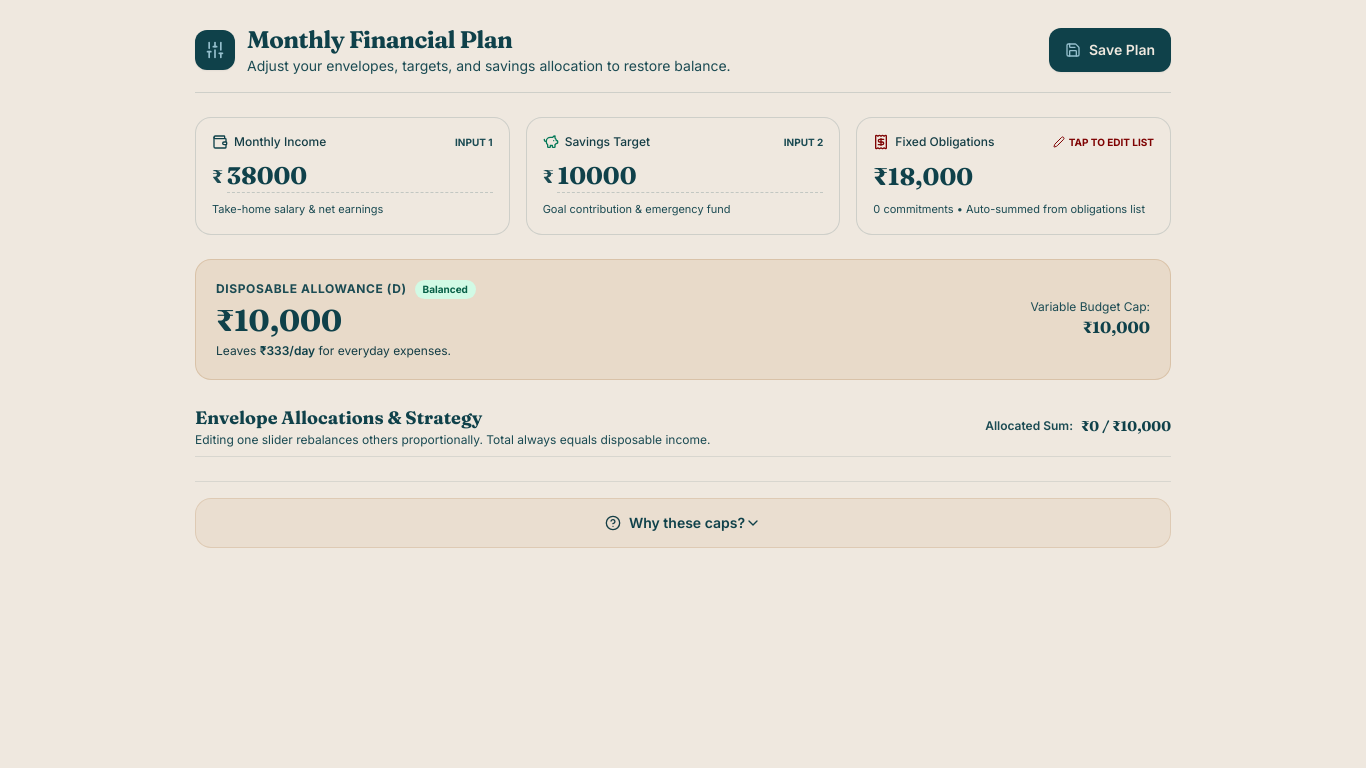
Test: PLAN SCREEN ACCEPTANCE TEST SUITE ("Earn 50k, save 20k") › obligations manager displays obligations with remaining tenure and payoff date for EMIs
Click the button with test id "fixed-obligations-card": (945, 142) top-left (856, 117), bottom-right (1171, 234)
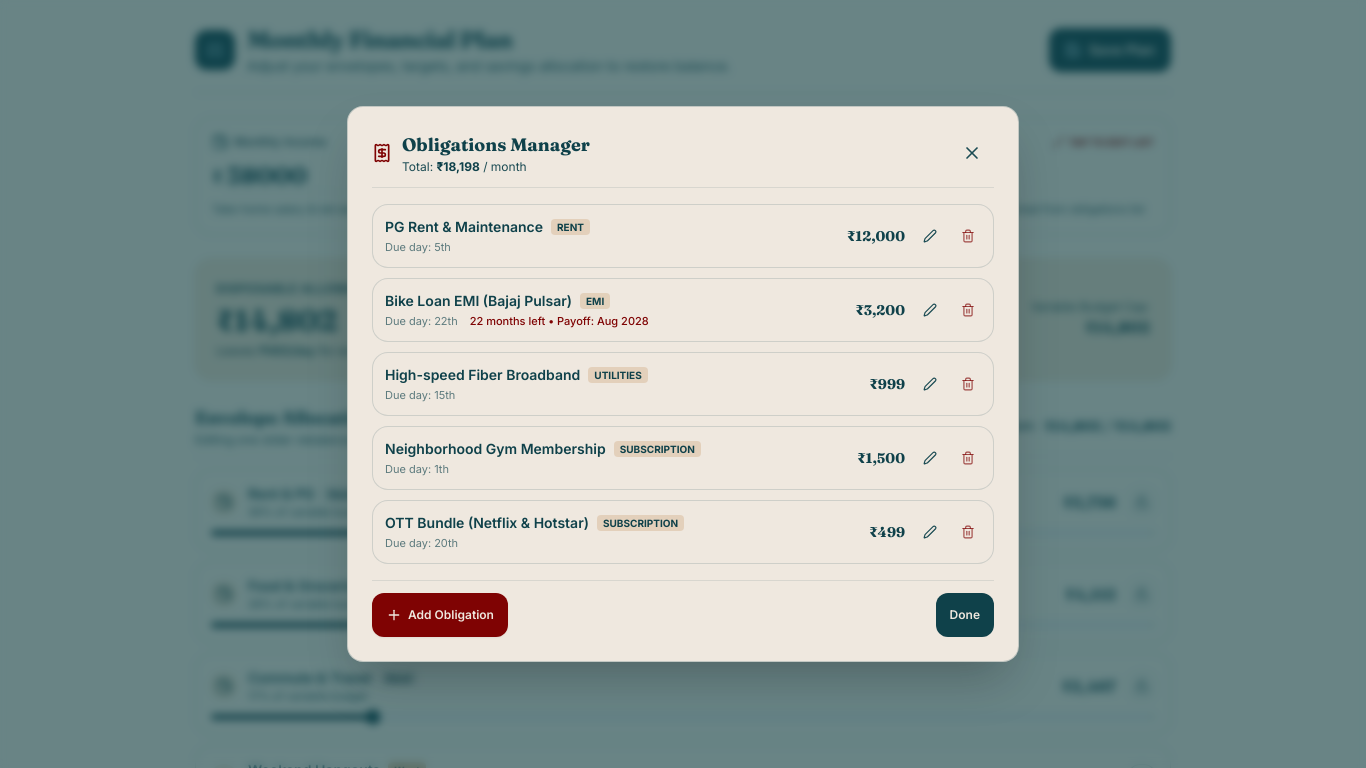
Expected: the heading "Obligations Manager" is shown, top-left (402, 131), bottom-right (590, 159)
Expected: the text "Bike Loan EMI (Bajaj Pulsar)" is shown, top-left (385, 291), bottom-right (572, 311)
Expected: the text "22 months left • Payoff: Aug 2028" is shown, top-left (470, 313), bottom-right (649, 329)
